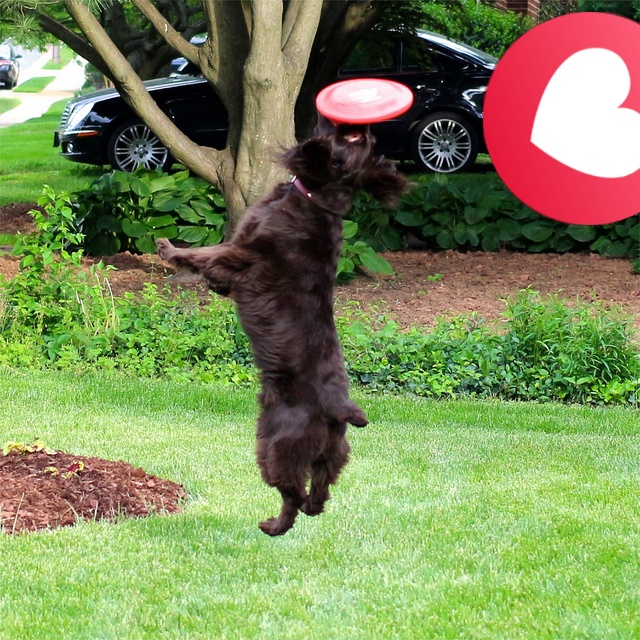love: (483, 12, 640, 225)
